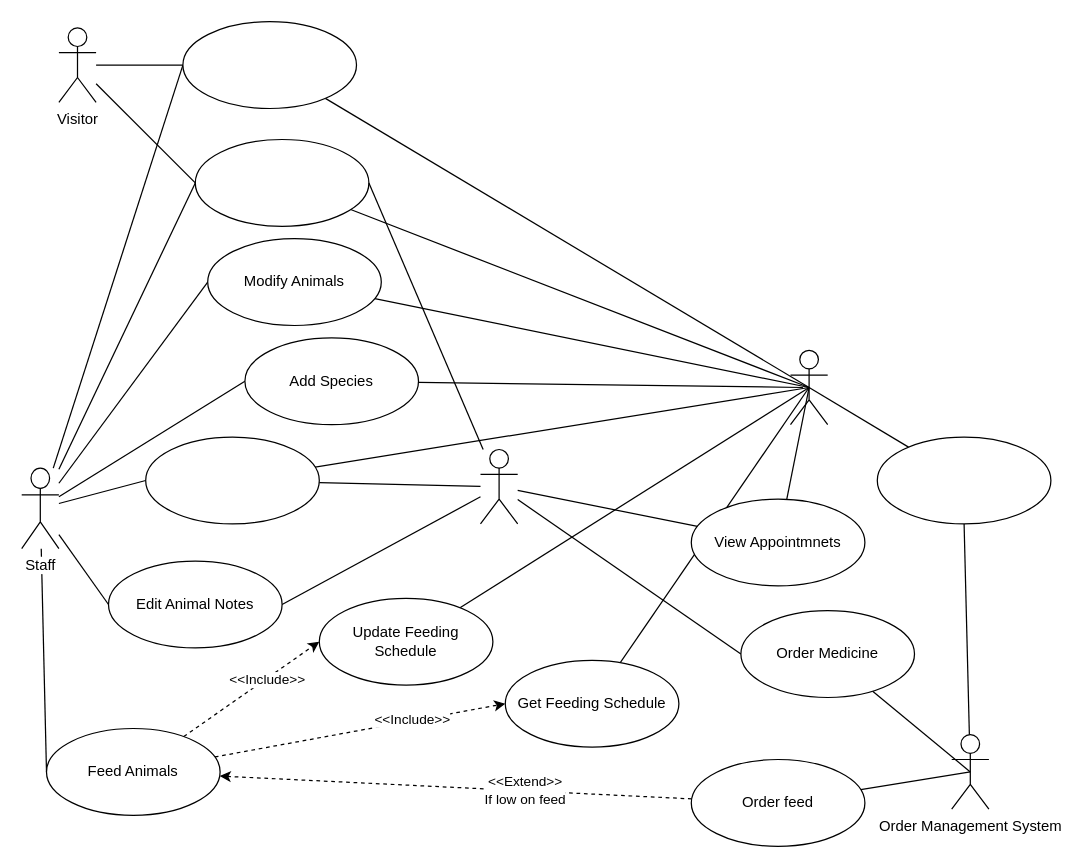
The diagram is 1083 pixels wide and 868 high, and some of its shapes have lost their labels. The shapes that lost their labels are listed below. From the top down, each one's box as (x1, y1, x2, y2) in pixels, then its label:
(182, 20, 356, 108): View Species Info
(194, 138, 369, 226): View Animal Info
(789, 349, 828, 425): Zoo Database
(144, 436, 319, 524): Create Appointment
(479, 448, 518, 524): Vet
(876, 436, 1051, 524): Update Inventory
